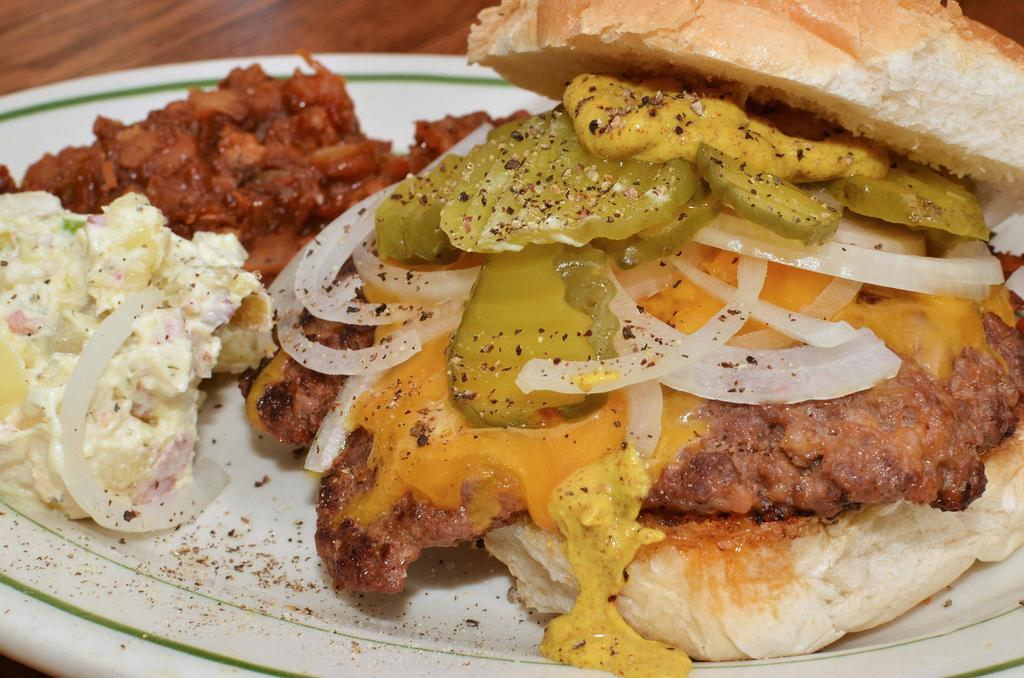Hamburger: (219, 0, 1023, 676)
